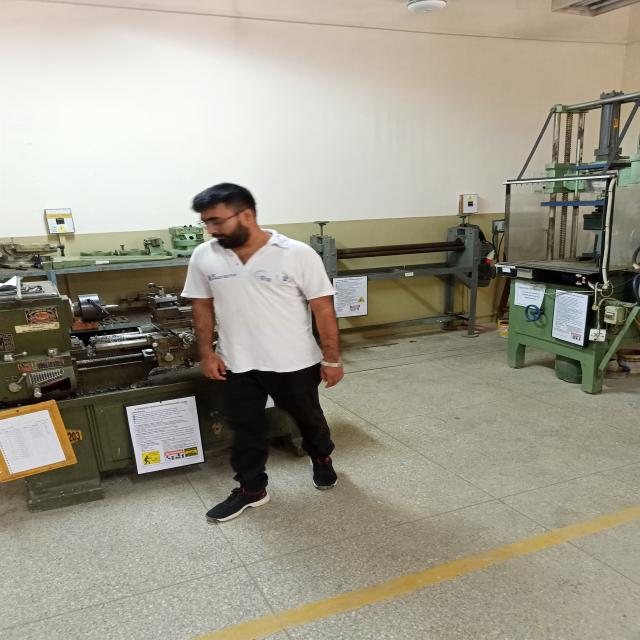dress: (176, 226, 348, 491)
glasses: (192, 215, 240, 229)
